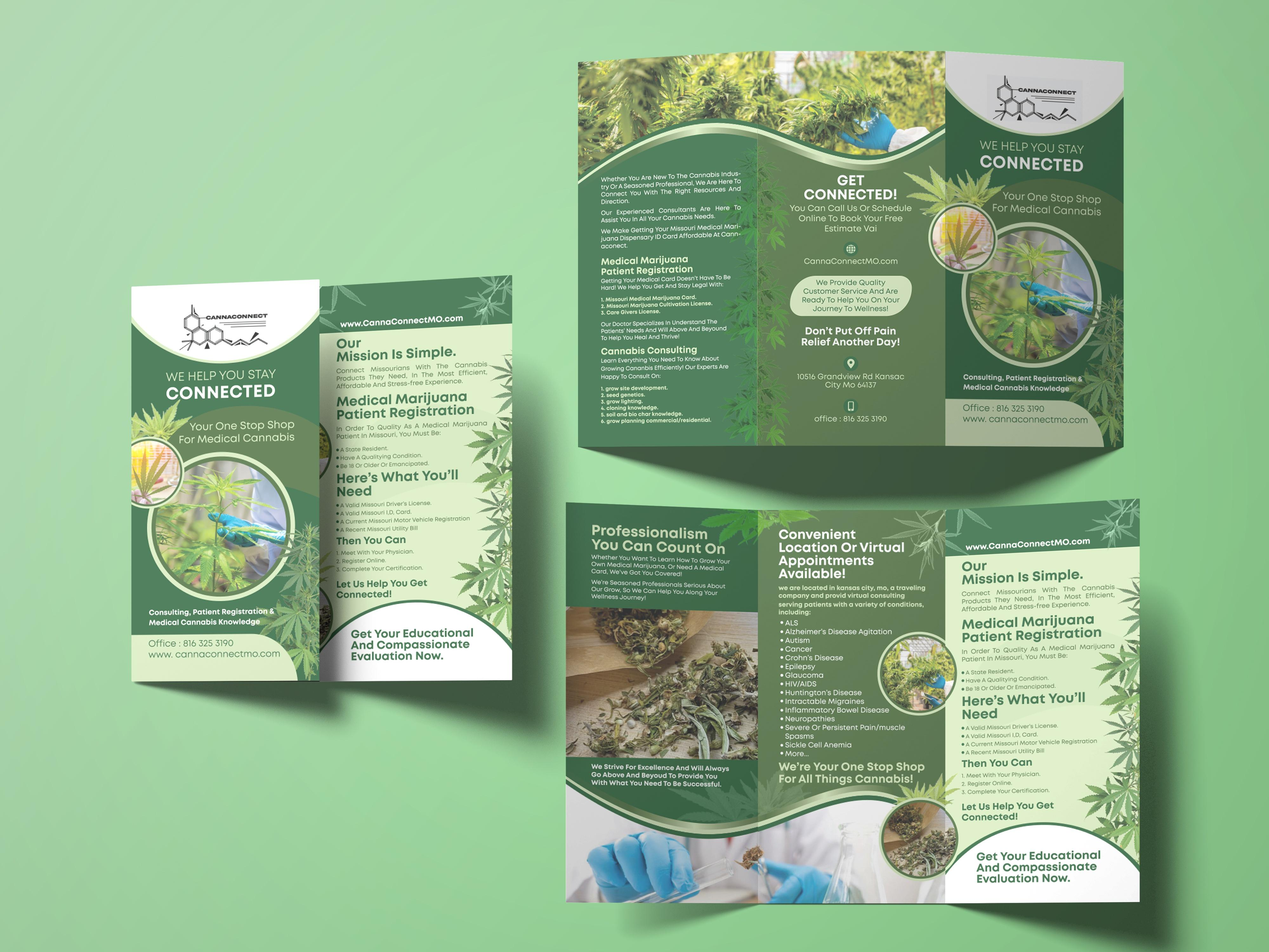paper: (563, 499, 1142, 905), (581, 71, 1121, 445), (128, 275, 513, 681), (936, 184, 937, 189)
